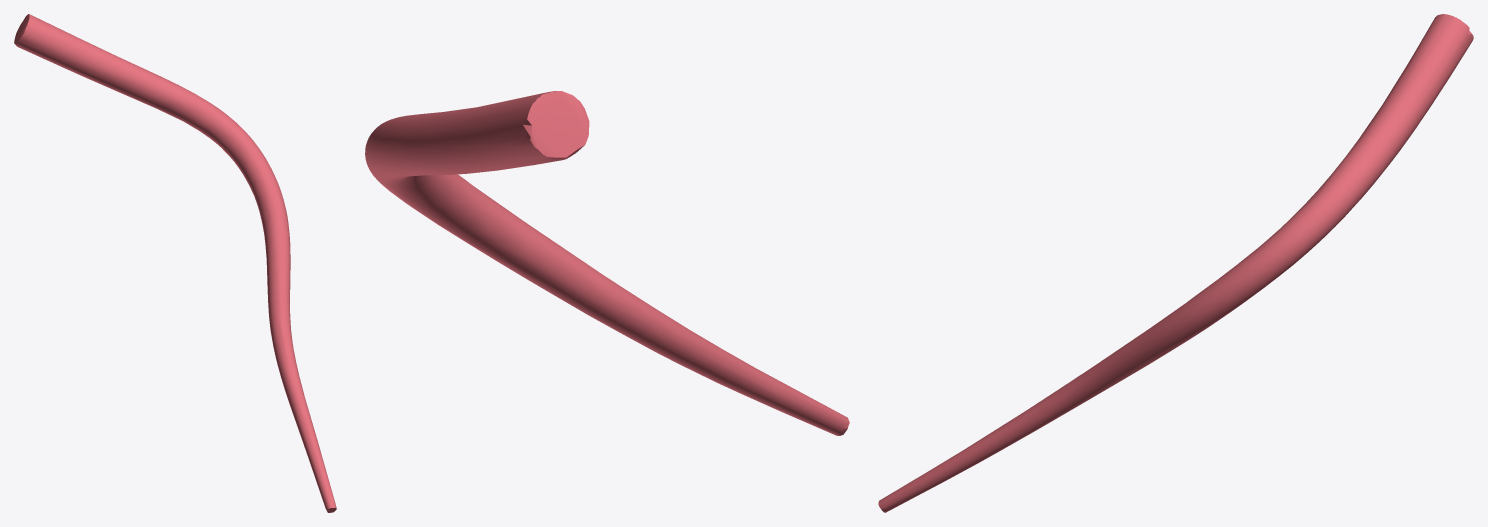
The model's file is fma8640_fj2896.glb.
3 views of the same model, side by side, from view 1: azimuth 30°, elevation 25°; view 2: azimuth 150°, elevation 25°; view 3: azimuth 270°, elevation 25° (orthographic). The views are drawn at different scales.
Visible parts, largest first — view 1: FMA8640_FJ2896; view 2: FMA8640_FJ2896; view 3: FMA8640_FJ2896.
Part boxes in pixels (x1,y1,x2,y2): FMA8640_FJ2896: [14, 14, 336, 512]; FMA8640_FJ2896: [365, 91, 849, 435]; FMA8640_FJ2896: [878, 14, 1473, 512].
Size of the model in its own units: 0.0466 by 0.089 by 0.1072.
